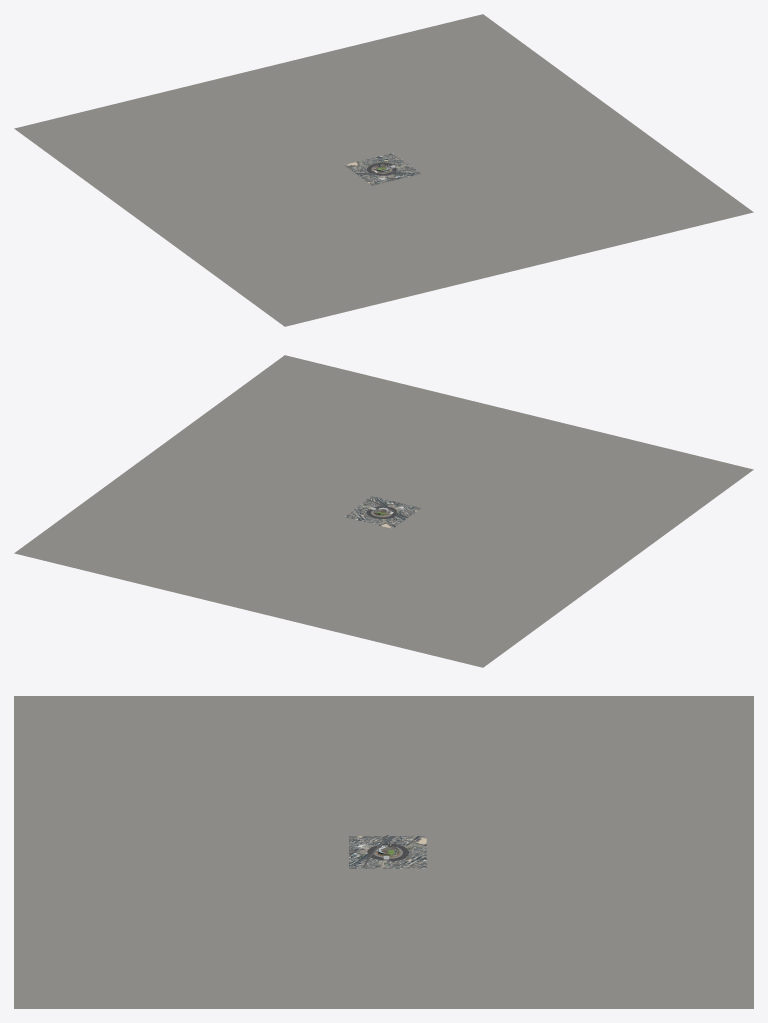
The model's file is r15_nightlight_stadium.glb.
The picture shows the model from 3 angles, top to bottom: view 1: azimuth 30°, elevation 25°; view 2: azimuth 150°, elevation 25°; view 3: azimuth 270°, elevation 25°; orthographic projection. The views are drawn at different scales.
Visible parts, largest first — view 1: stadium; view 2: stadium; view 3: stadium.
Part boxes in pixels (x1,y1,x2,y2): stadium: [14, 14, 753, 326]; stadium: [14, 355, 753, 667]; stadium: [14, 696, 753, 1008].
Bounding box in the file's own units: 8000 × 45 × 8000.
Materials: 355 (194 with a texture image).
